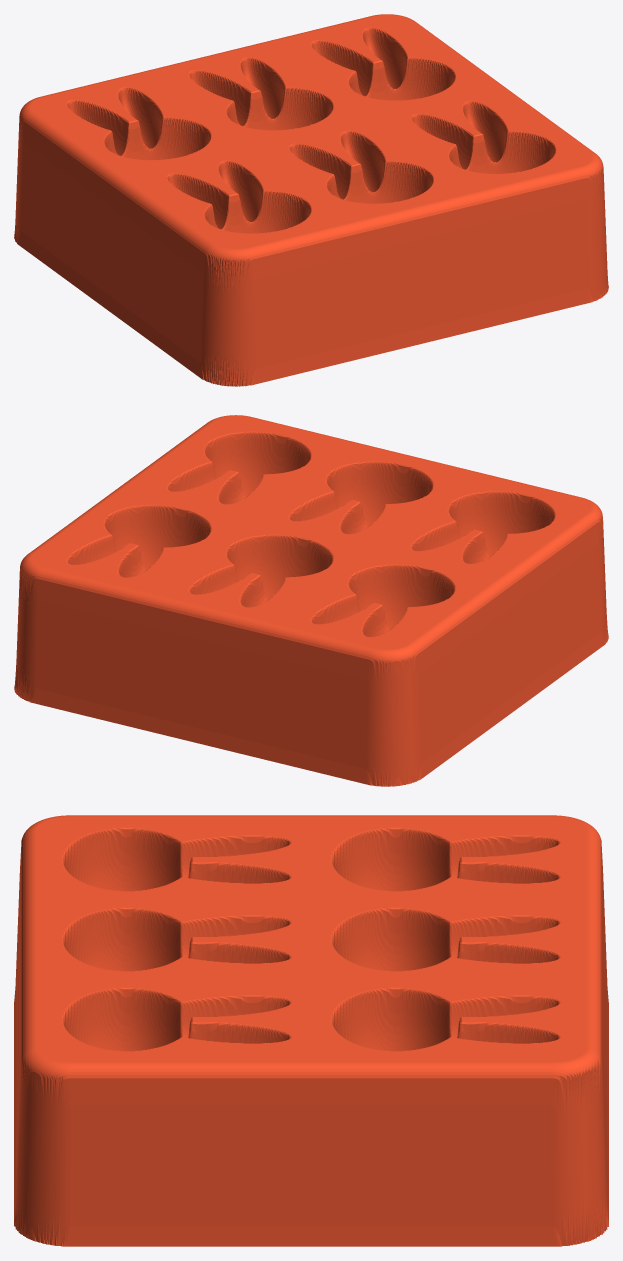
The model's file is mold.glb.
3 views of the same model, one above another, from view 1: azimuth 30°, elevation 25°; view 2: azimuth 150°, elevation 25°; view 3: azimuth 270°, elevation 25° (orthographic). The views are drawn at different scales.
Visible parts, largest first — view 1: geometry_0; view 2: geometry_0; view 3: geometry_0.
Boxes of the visible parts, x1=… form: geometry_0: x1=14, y1=14, x2=608, y2=386; geometry_0: x1=14, y1=415, x2=608, y2=786; geometry_0: x1=14, y1=815, x2=608, y2=1246.
Bounding box in the file's own units: 0.1015 × 0.0314 × 0.0966.
